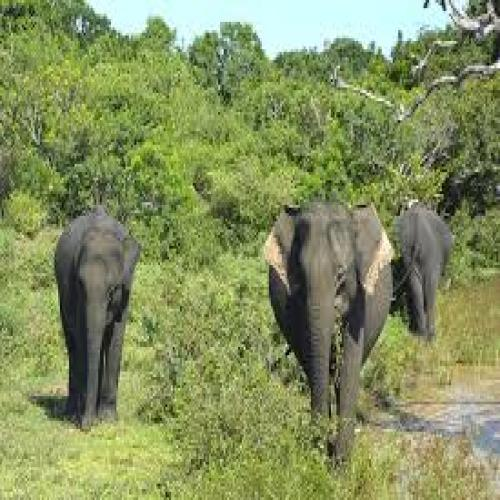asian_elephant-endangered: (261, 204, 397, 469), (53, 214, 142, 426), (387, 212, 453, 336)
